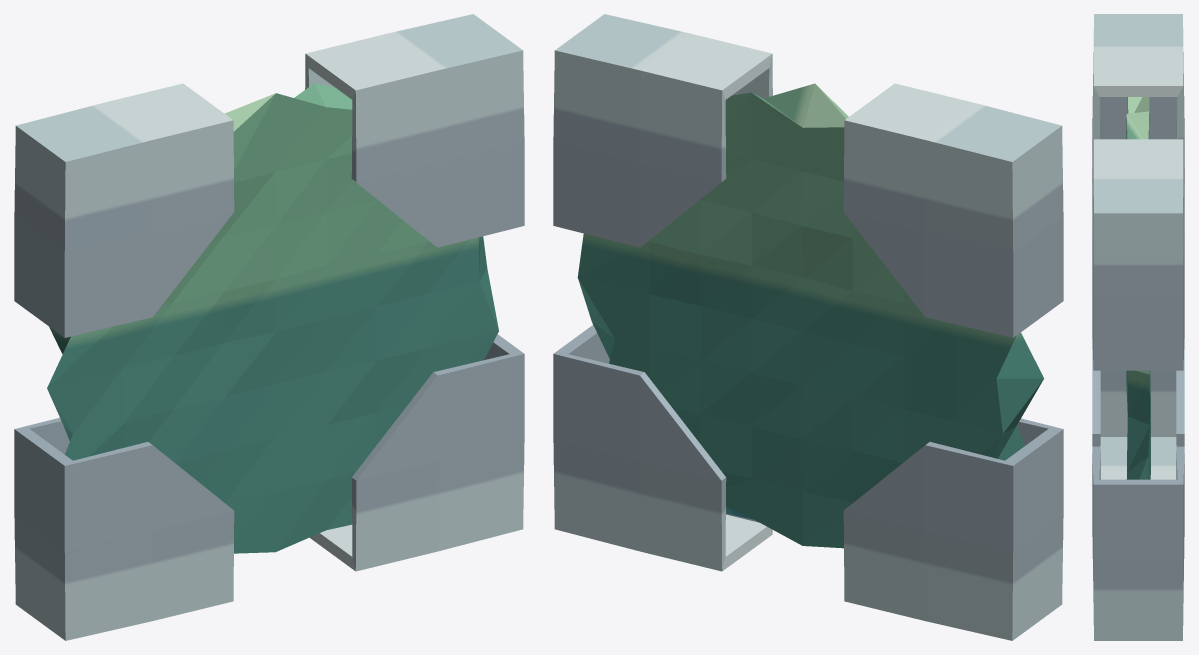
The model's file is lv3_boss_frame.fbx.
3 views of the same model, side by side, from view 1: azimuth 30°, elevation 25°; view 2: azimuth 150°, elevation 25°; view 3: azimuth 270°, elevation 25° (orthographic). The views are drawn at different scales.
Visible parts, largest first — view 1: Lv3BossInner; view 2: Lv3BossInner; view 3: Lv3BossInner.
Boxes of the visible parts, <box> form: Lv3BossInner: <box>14,14,524,640</box>; Lv3BossInner: <box>553,14,1063,640</box>; Lv3BossInner: <box>1092,14,1184,640</box>.
Bounding box in the file's own units: 2257 × 2257 × 440.
